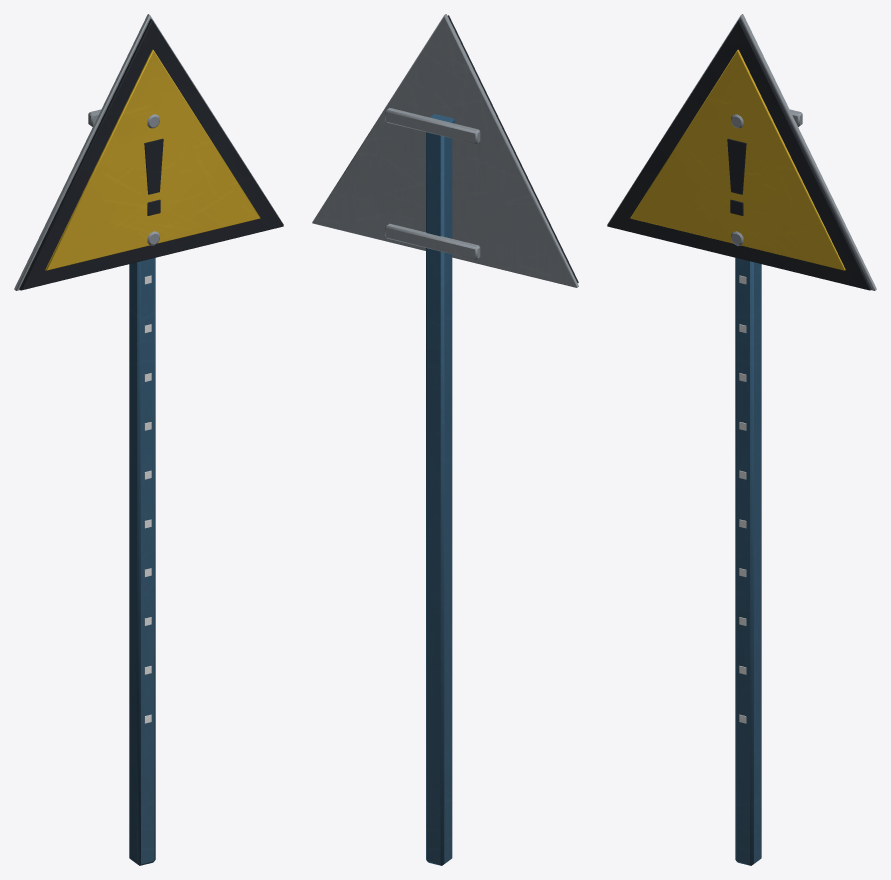
The model's file is caution_sign.glb.
3 renders of one model, left to right at view 1: azimuth 30°, elevation 25°; view 2: azimuth 150°, elevation 25°; view 3: azimuth 330°, elevation 25°, orthographic.
Parts seen in each view (by area): view 1: caution_sign; view 2: caution_sign; view 3: caution_sign.
Part boxes in pixels (<box>): caution_sign: <box>14,14,283,865</box>; caution_sign: <box>312,14,578,865</box>; caution_sign: <box>607,14,876,865</box>.
Size of the model in its own units: 0.863 by 2.62 by 0.1145.
Materials: 8 (8 with a texture image).
